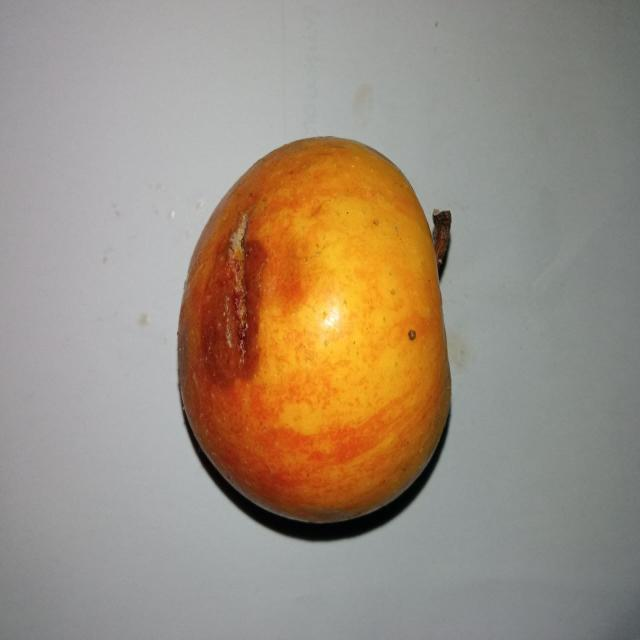rotten_apple: (175, 135, 452, 522)
